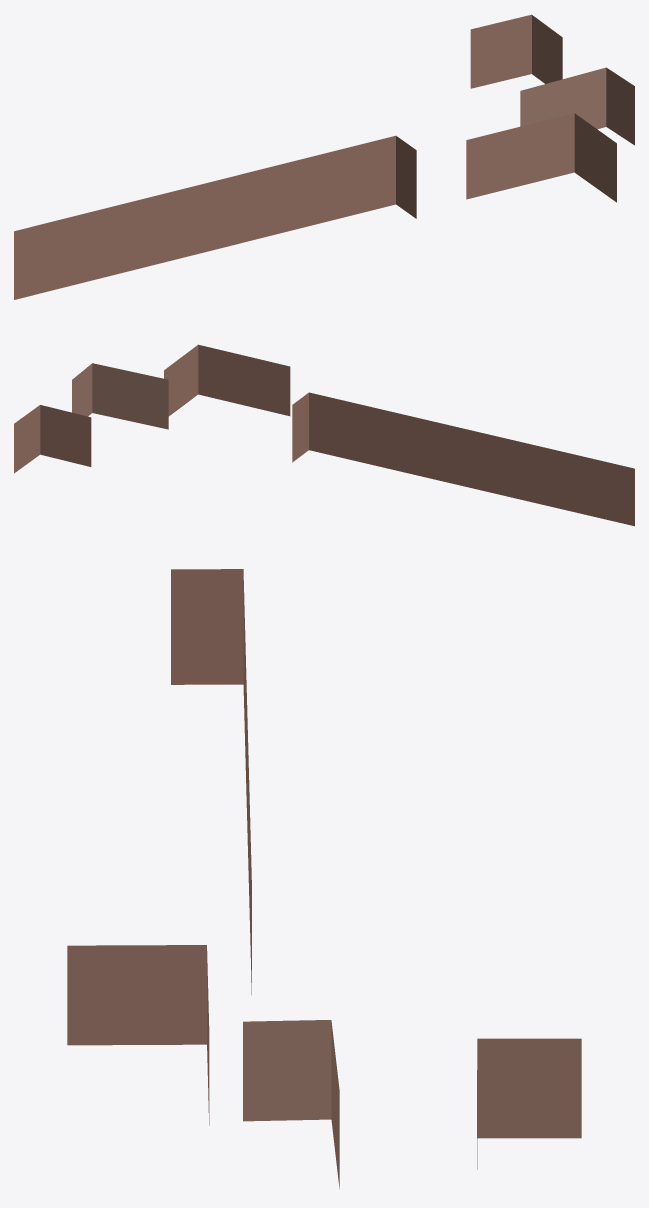
File: c_1631_17819_buildings_residential.glb
3 views of the same model, one above another, from view 1: azimuth 30°, elevation 25°; view 2: azimuth 150°, elevation 25°; view 3: azimuth 270°, elevation 25° (orthographic). The views are drawn at different scales.
Visible parts, largest first — view 1: geometry_0; view 2: geometry_0; view 3: geometry_0.
Boxes of the visible parts, bbox=[...] form: geometry_0: bbox=[14, 14, 634, 299]; geometry_0: bbox=[14, 344, 634, 526]; geometry_0: bbox=[67, 569, 581, 1188].
Bounding box in the file's own units: 104 × 11.08 × 44.37.
